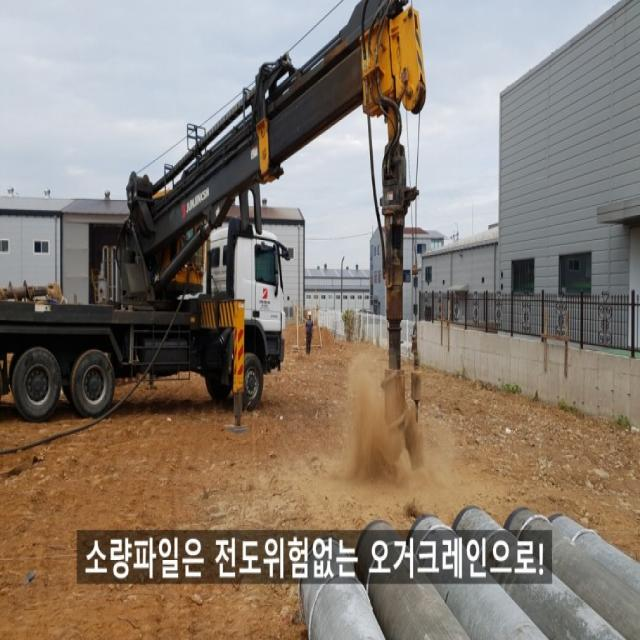pile: (380, 371, 410, 448)
